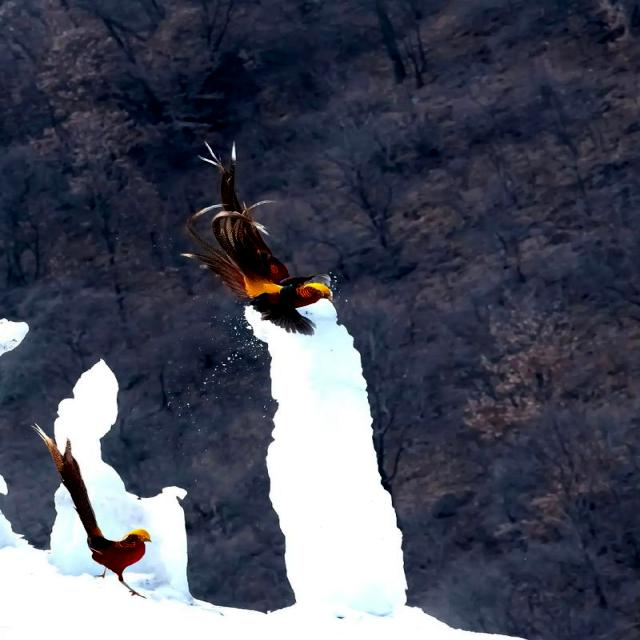Chrysolophus pictus feather: (181, 141, 280, 296), (31, 424, 102, 536)
